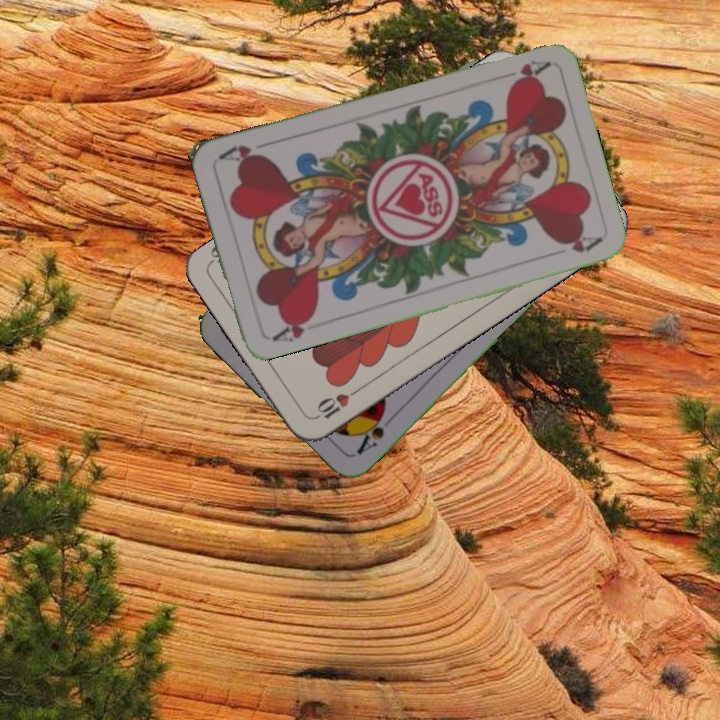H10: (310, 384, 363, 422)
HA: (494, 55, 552, 90), (267, 309, 319, 345)
SA: (352, 408, 388, 458)
